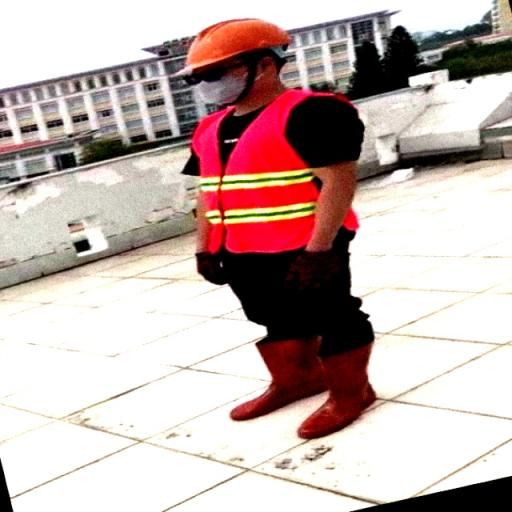Person: (150, 4, 419, 439)
boots: (297, 330, 395, 444), (224, 326, 331, 428)
gloves: (280, 245, 334, 288), (190, 246, 236, 290)
goggles: (180, 54, 266, 86)
helmet: (172, 8, 298, 74)
vest: (193, 86, 358, 260)
